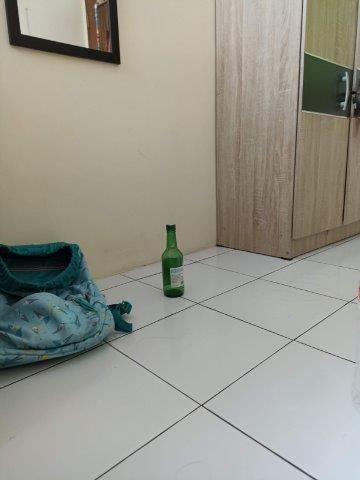botolkaca: (161, 221, 185, 297)
